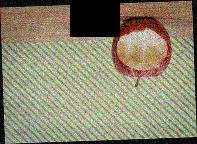rotten apple: (108, 14, 173, 80)
